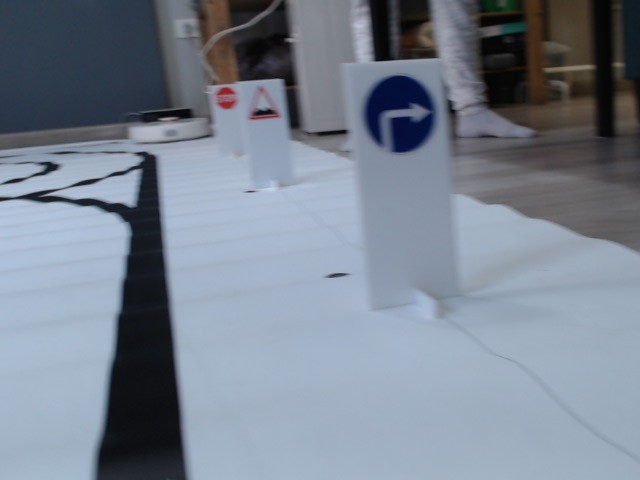Nerov: (247, 85, 282, 120)
Right: (362, 72, 434, 156)
